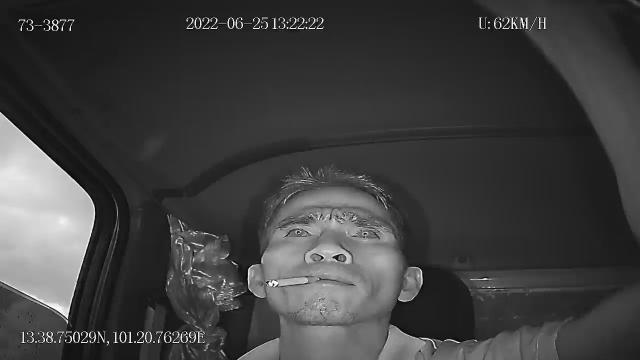SafeDriving: (342, 222, 386, 243), (278, 221, 314, 242)
Smoking: (266, 276, 320, 288)
